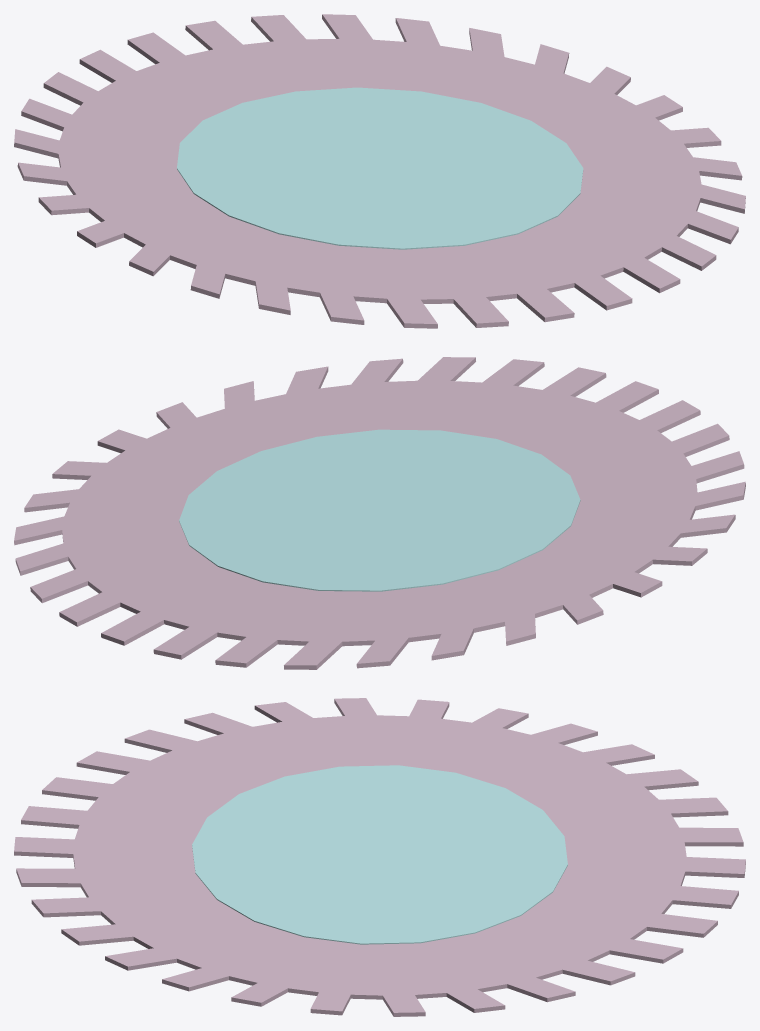
File: Rug.fbx
3 renders of one model, top to bottom at view 1: azimuth 30°, elevation 25°; view 2: azimuth 150°, elevation 25°; view 3: azimuth 270°, elevation 25°, orthographic. The views are drawn at different scales.
Parts seen in each view (by area): view 1: Rug; view 2: Rug; view 3: Rug.
Part boxes in pixels (box(x1,y1,x2,y2)): Rug: box(14, 14, 745, 328); Rug: box(14, 357, 745, 669); Rug: box(14, 698, 745, 1016).
Bounding box in the file's own units: 34.48 × 2.28 × 38.15.
